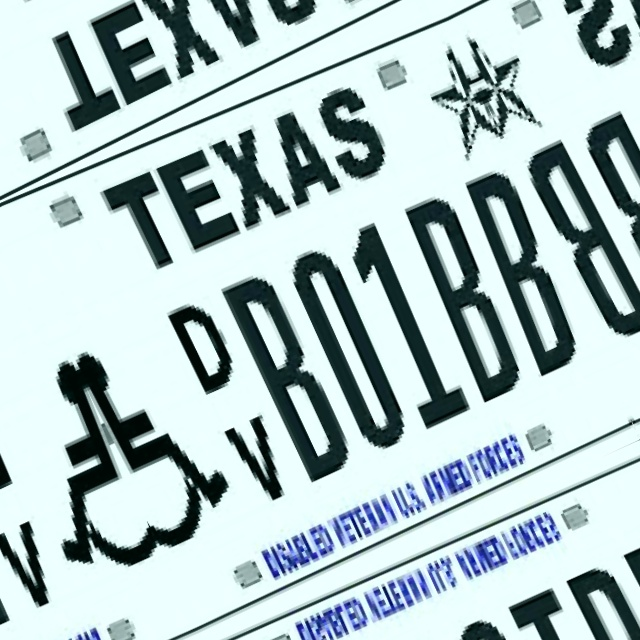ISA: (69, 313, 248, 557), (0, 352, 163, 596), (0, 0, 16, 50)
